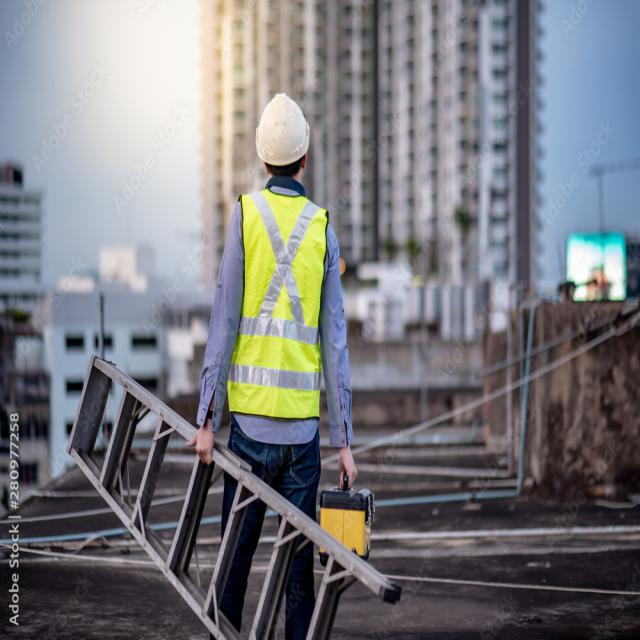helmet: (258, 89, 314, 170)
vest: (219, 182, 338, 428)
